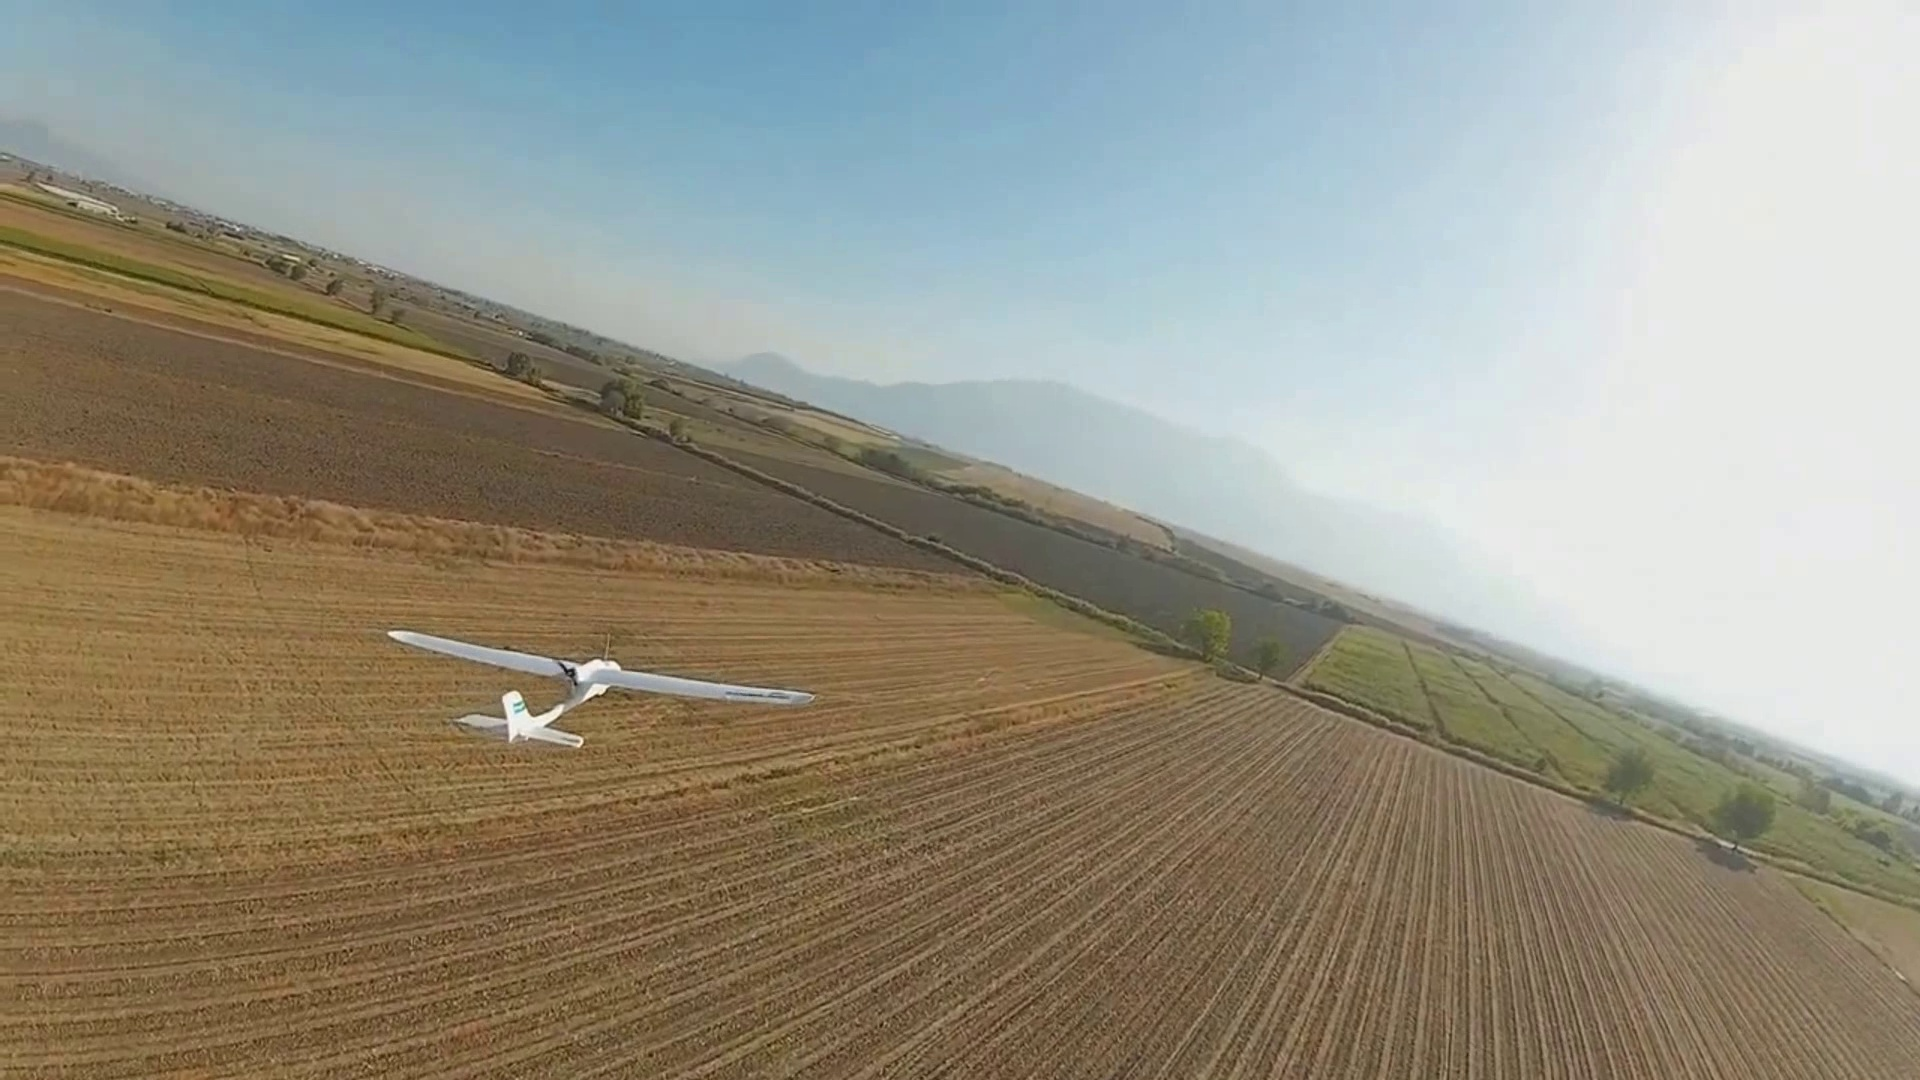airplane: (384, 630, 814, 749)
